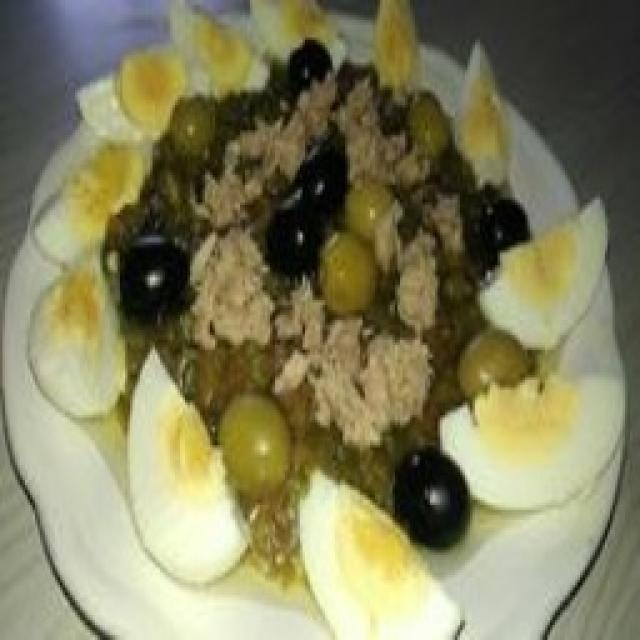Salade mechweya: (22, 0, 600, 640)
